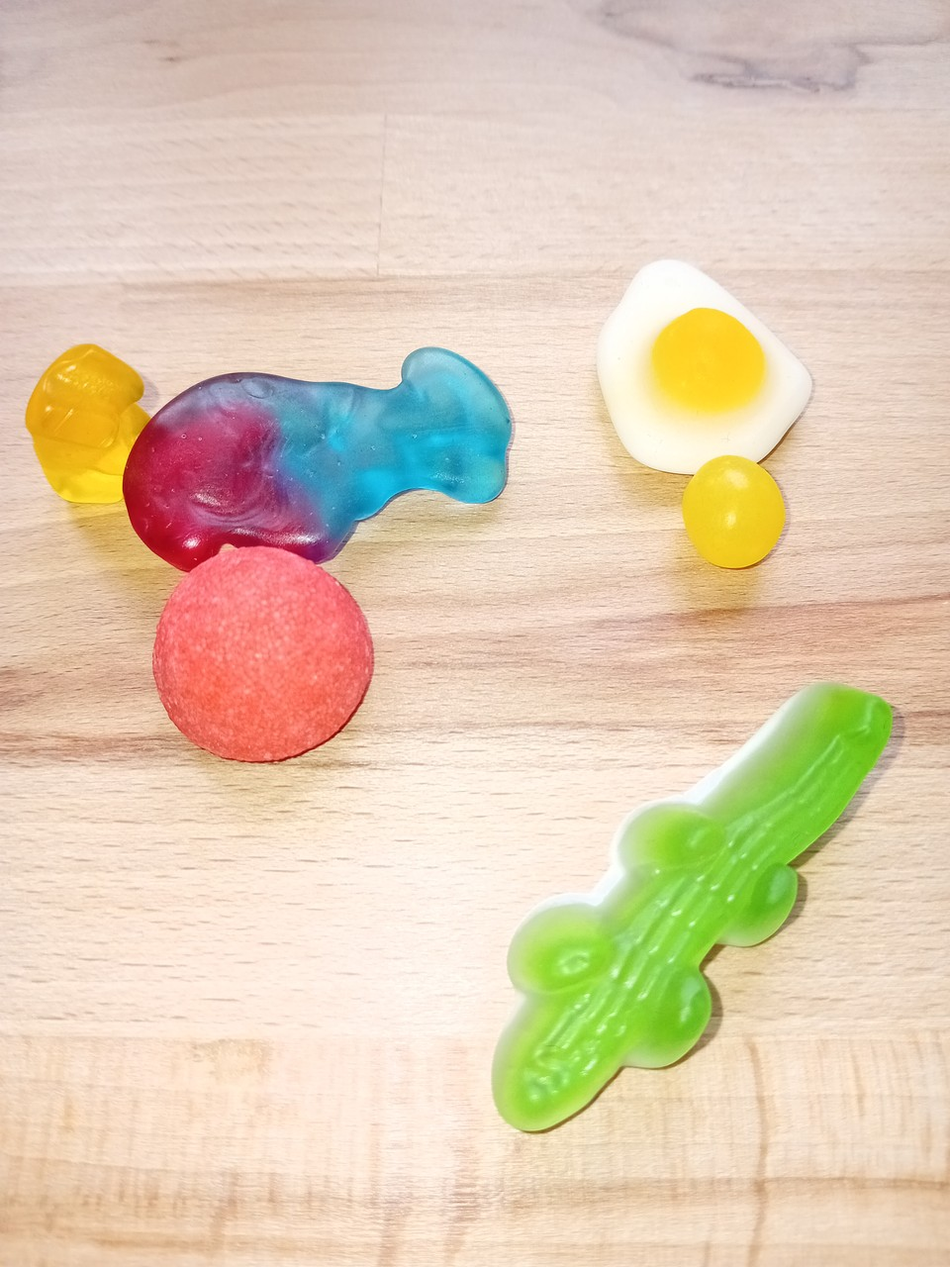crocodile_vert: (482, 671, 903, 1150)
dragibus_jaune: (671, 450, 792, 572)
oeuf_oeuf: (588, 245, 817, 482)
ourson_jaune: (25, 340, 151, 509)
schtroumpf_bleu-rouge: (122, 344, 516, 580)
tagada_fraise: (142, 544, 383, 772)
